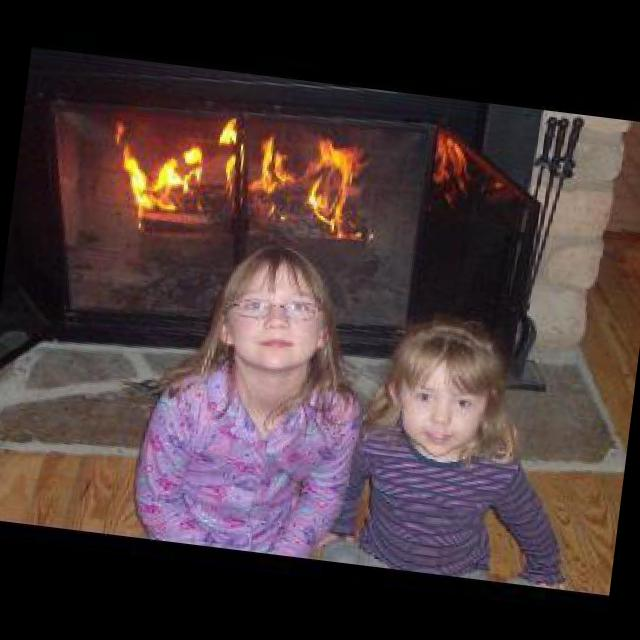Fire: (100, 98, 388, 254), (426, 122, 498, 205)
